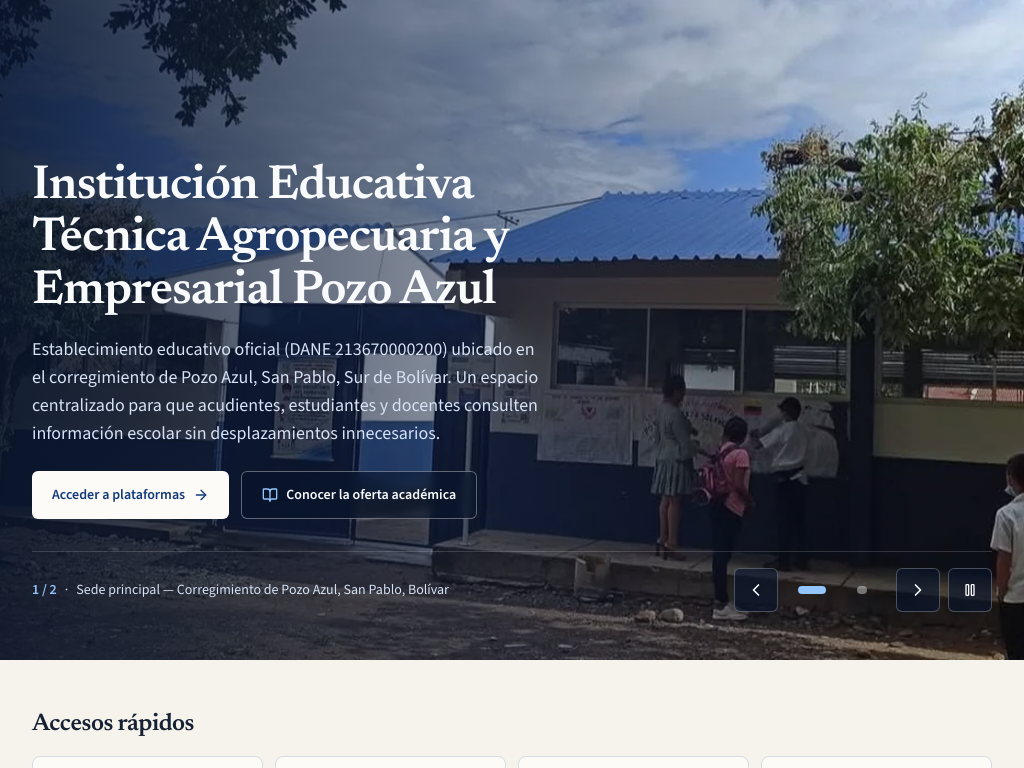
Test: HomePage (Fase 3) › muestra el carrusel hero a pantalla completa, cambia de imagen y permite pausar/reanudar
This screenshot has width=1024, height=768.
Expected: the text "1 / 2" is shown, [32,580,57,600]
Expected: the text "Sede principal — Corregimiento de Pozo Azul" is shown, [76,580,449,599]
Step 1. Click the button named "Imagen siguiente" → (918, 590), box [896,568,940,612]
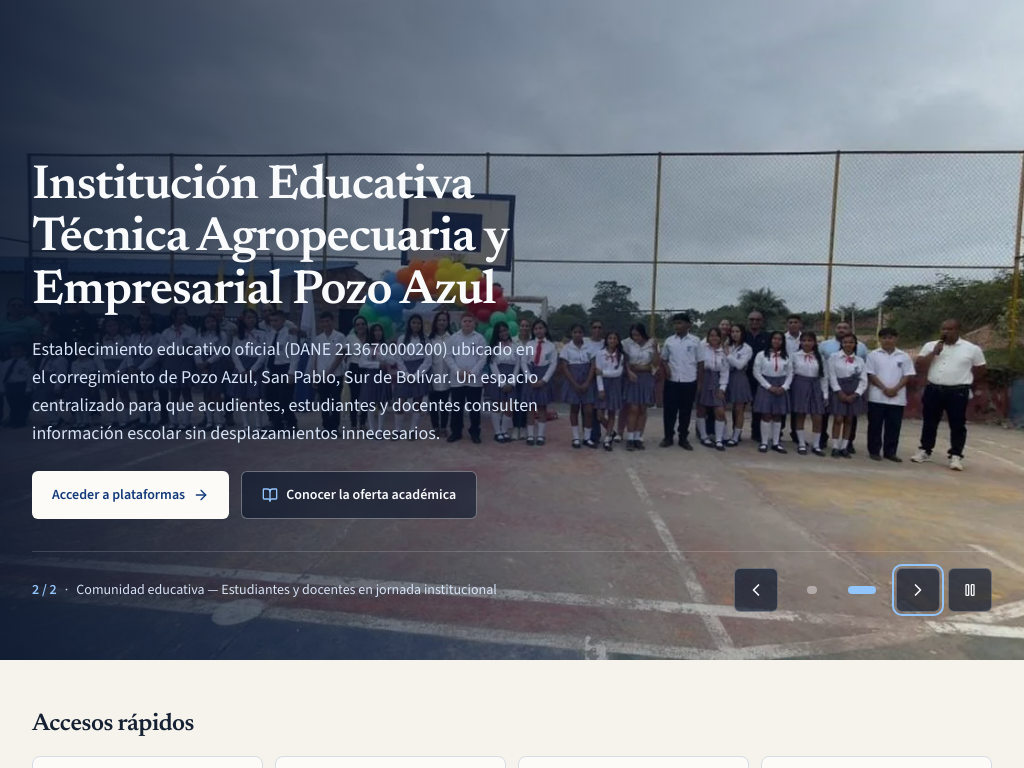
Expected: the text "2 / 2" is shown, [32,580,57,600]
Expected: the text "Comunidad educativa — Estudiantes y docentes" is shown, [76,580,497,599]
Step 2. Click the button named "Pausar carrusel" → (970, 590), box [948,568,992,612]
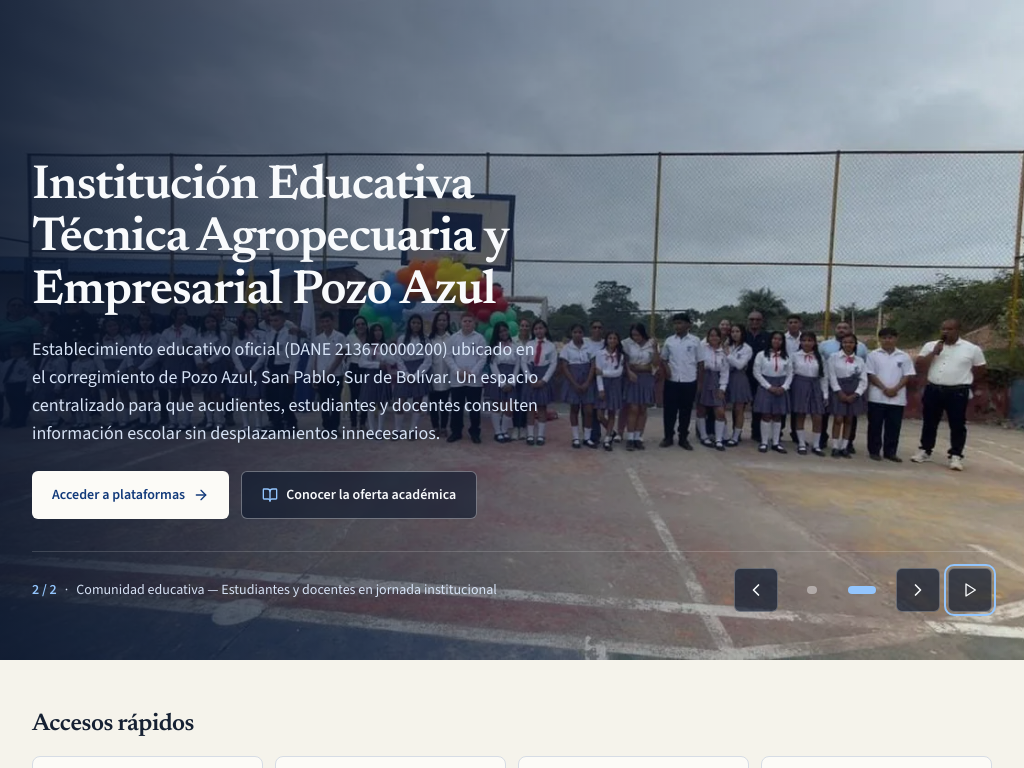
Expected: the button named "Reanudar carrusel" is pressed, [948,568,992,612]
